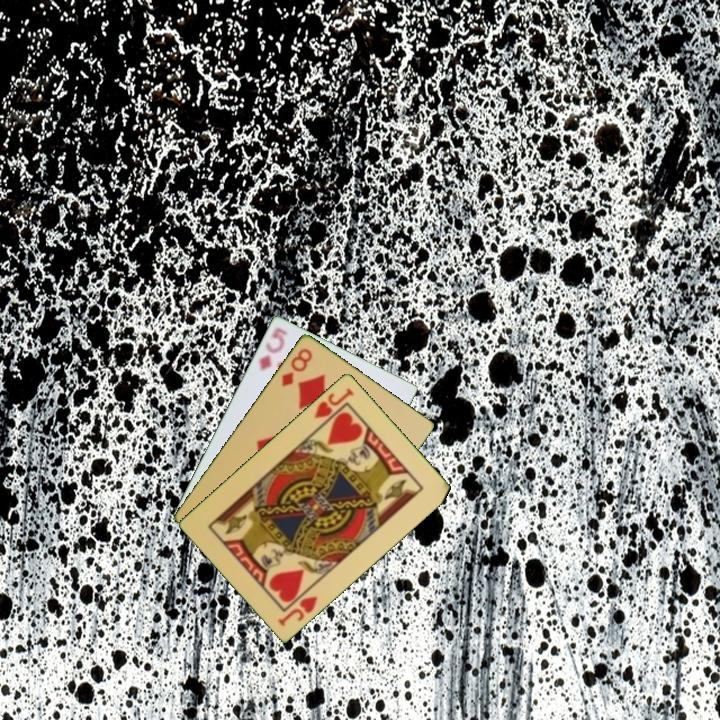5d: (255, 324, 290, 373)
8d: (278, 344, 315, 389)
Jh: (310, 384, 357, 421), (274, 592, 320, 629)
